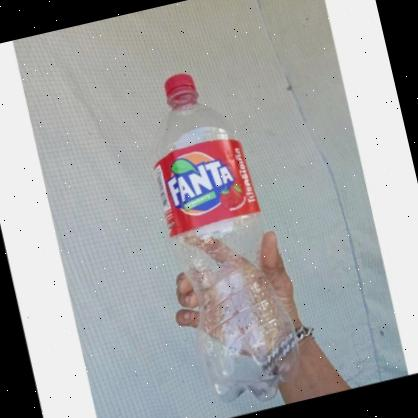bottle: (130, 60, 312, 416)
cap: (158, 71, 202, 108)
label: (150, 132, 266, 244)
